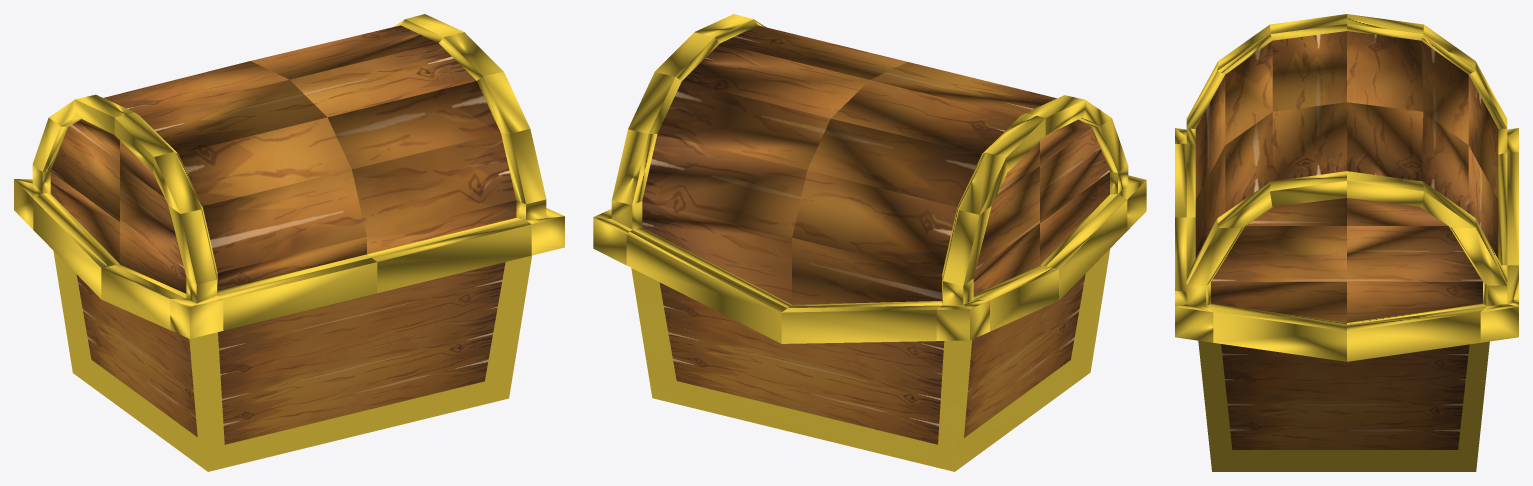
The model's file is chest.fbx.
3 views of the same model, side by side, from view 1: azimuth 30°, elevation 25°; view 2: azimuth 150°, elevation 25°; view 3: azimuth 270°, elevation 25° (orthographic). The views are drawn at different scales.
Parts seen in each view (by area): view 1: polySurface2, polySurface3; view 2: polySurface2, polySurface3; view 3: polySurface2, polySurface3.
Boxes of the visible parts, left/top/right/bottom form: polySurface2: left=14, top=14, right=564, bottom=338; polySurface3: left=53, top=251, right=531, bottom=471; polySurface2: left=593, top=14, right=1146, bottom=343; polySurface3: left=631, top=249, right=1109, bottom=471; polySurface2: left=1175, top=14, right=1518, bottom=361; polySurface3: left=1198, top=340, right=1489, bottom=471.
Size of the model in its own units: 7.33 by 5.77 by 5.94.
Materials: 1 (1 with a texture image).
